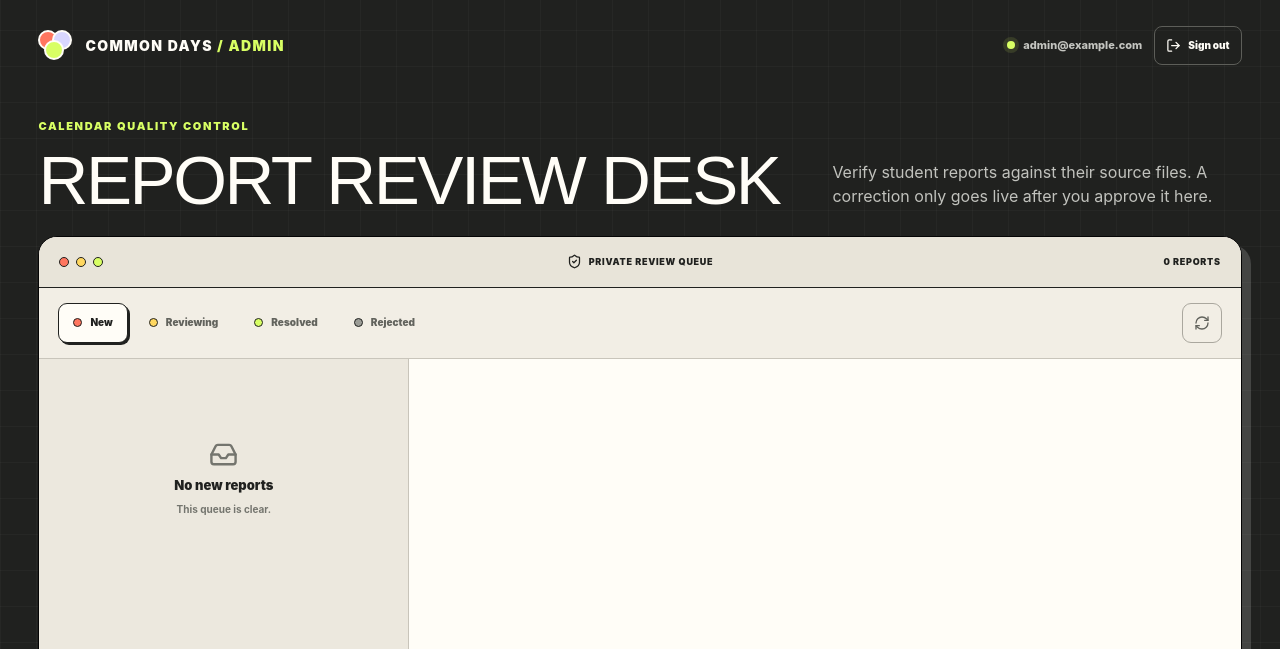
Test case: Common Days admin frontend › routes a report about a derived gap through activity-period correction only
Click the button "Reviewing". click: (184, 322)
box: [134,302,233,342]
(page scrolled)
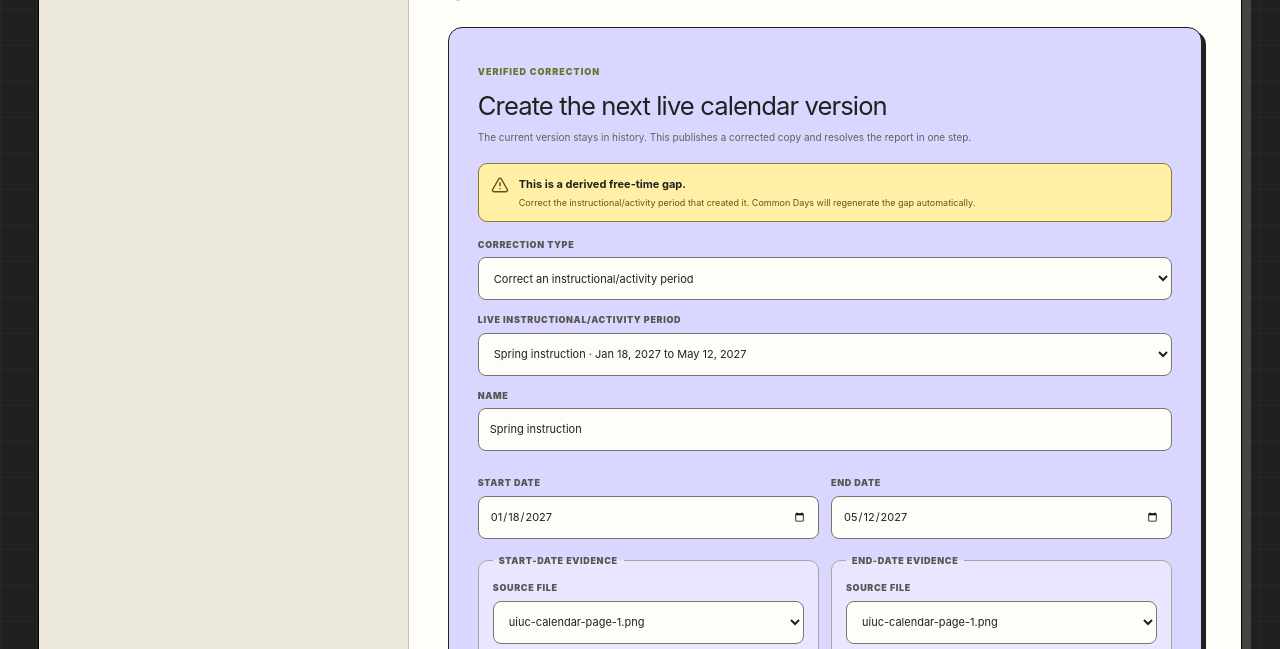
Expected: the text "This is a derived free-time gap." is shown, [519,177,686,191]
Expected: the dropdown labelled "Correction type" shows "Correct an instructional/activity period", [478,257,1172,300]
Expected: the dropdown labelled "Live instructional/activity period" is shown, [478,333,1172,376]
